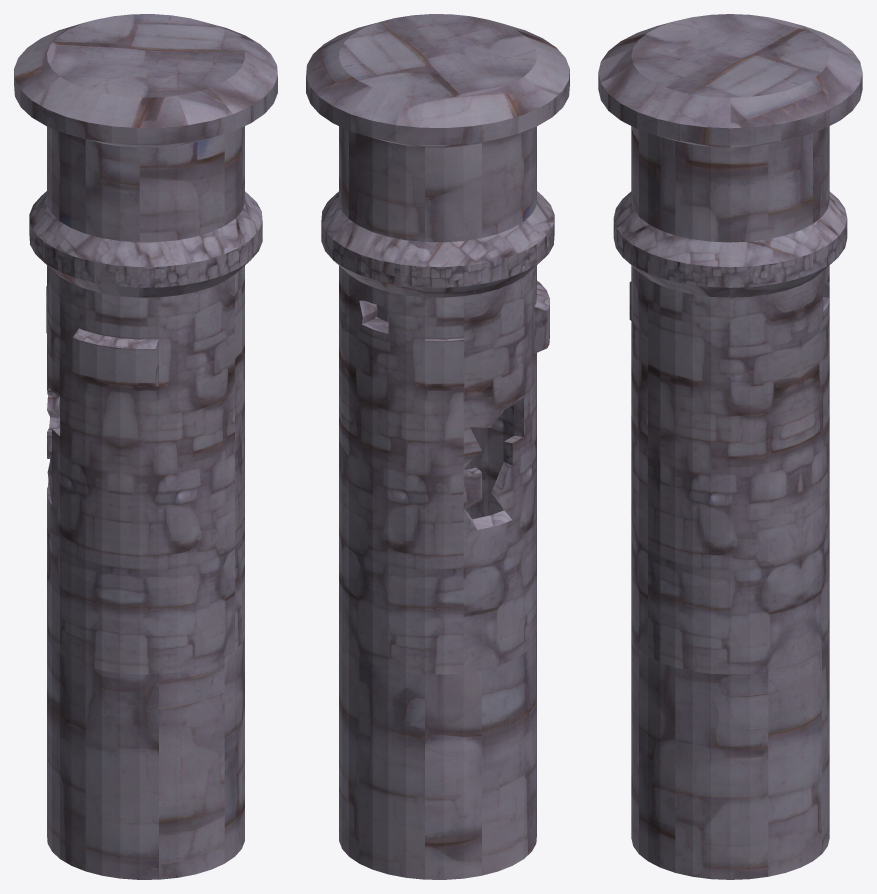
File: pillar1.fbx
3 views of the same model, side by side, from view 1: azimuth 30°, elevation 25°; view 2: azimuth 150°, elevation 25°; view 3: azimuth 270°, elevation 25° (orthographic).
Parts seen in each view (by area): view 1: Cylinder; view 2: Cylinder; view 3: Cylinder.
Boxes of the visible parts, x1,y1,x2,y2 form: Cylinder: [14, 14, 277, 879]; Cylinder: [306, 14, 569, 879]; Cylinder: [598, 14, 862, 879].
Size of the model in its own units: 533 by 1740 by 533.
